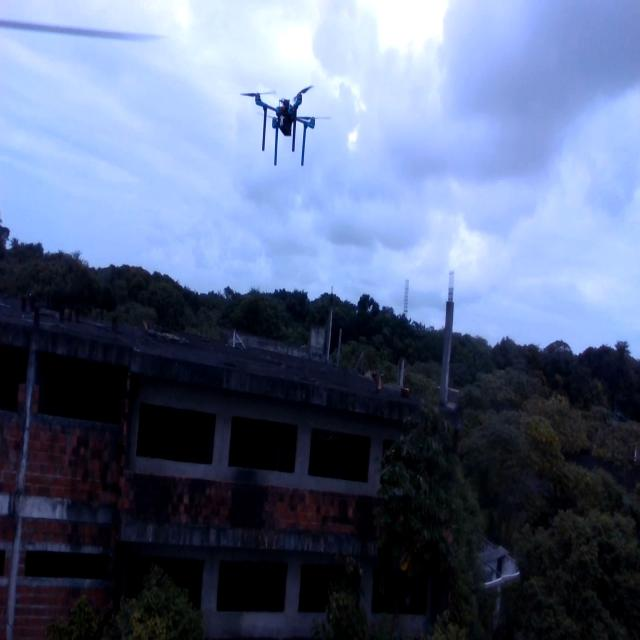-uav-: (237, 70, 333, 180)
